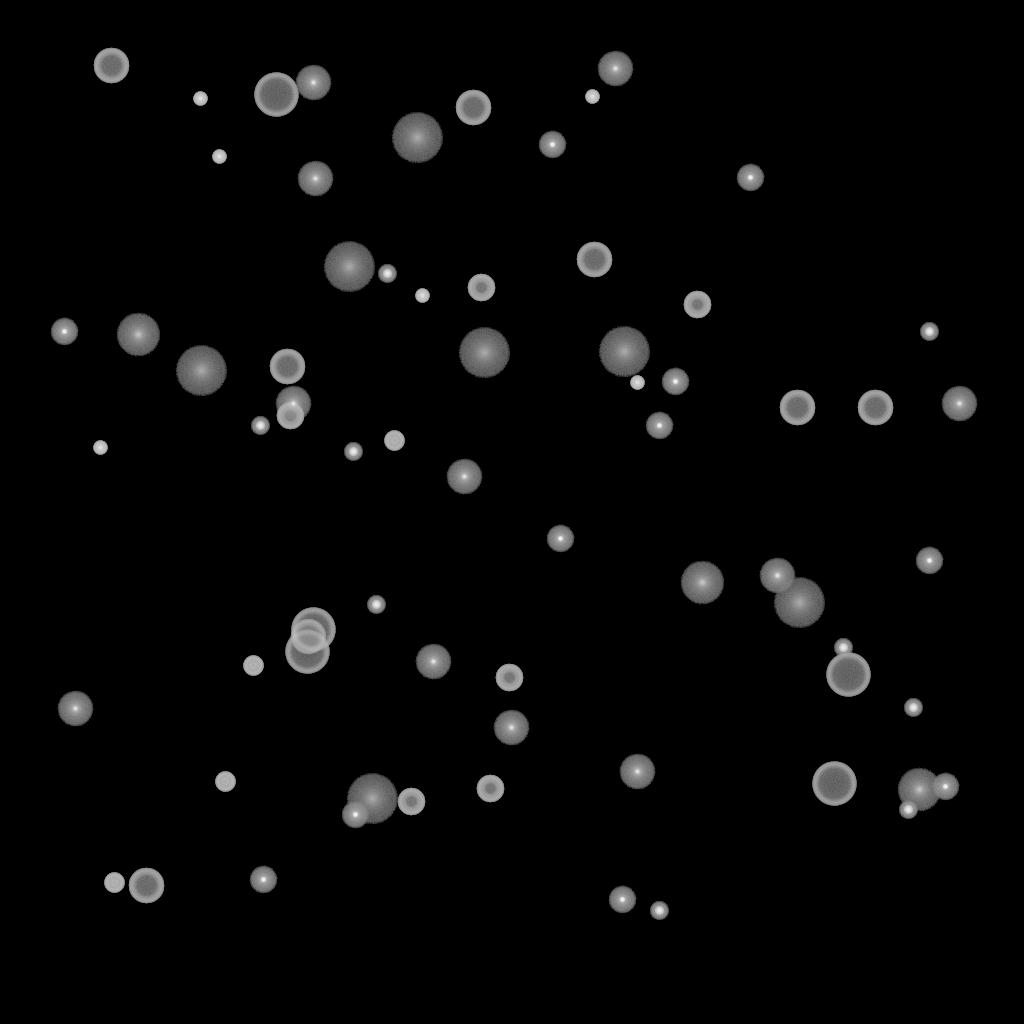depth:-10: (538, 131, 566, 159), (915, 547, 943, 575), (931, 773, 959, 801), (608, 886, 636, 914), (546, 525, 574, 553), (736, 164, 764, 192), (341, 801, 369, 829), (661, 368, 689, 396), (645, 412, 673, 440), (50, 318, 78, 346), (249, 866, 277, 894)
depth:-20: (650, 902, 668, 920), (920, 323, 938, 341), (904, 699, 922, 717), (899, 801, 917, 819), (834, 639, 852, 657), (344, 443, 362, 461), (251, 417, 269, 435), (378, 265, 396, 283), (367, 596, 385, 614)
depth:-30: (415, 289, 429, 303), (93, 441, 107, 455), (630, 376, 644, 390), (193, 92, 207, 106), (585, 90, 599, 104), (212, 150, 226, 164)
depth:-40: (215, 772, 235, 792), (243, 656, 263, 676), (384, 431, 404, 451), (104, 873, 124, 893)
depth:-50: (683, 291, 711, 319), (476, 775, 504, 803), (495, 664, 523, 692), (397, 788, 425, 816), (467, 274, 495, 302), (276, 402, 304, 430)
depth:-60: (269, 349, 305, 385), (455, 90, 491, 126), (576, 242, 612, 278), (93, 48, 129, 84), (290, 619, 326, 655), (128, 868, 164, 904), (779, 390, 815, 426), (857, 390, 893, 426)
depth:-70: (826, 653, 870, 697), (291, 608, 335, 652), (812, 762, 856, 806), (254, 73, 298, 117), (285, 630, 329, 674)
depth:0: (295, 65, 331, 101), (415, 644, 451, 680), (941, 386, 977, 422), (493, 710, 529, 746), (57, 691, 93, 727), (759, 558, 795, 594), (619, 754, 655, 790), (275, 386, 311, 422), (297, 161, 333, 197), (446, 459, 482, 495), (597, 51, 633, 87)
depth:10: (897, 768, 941, 812), (680, 561, 724, 605), (116, 313, 160, 357)
depth:20: (458, 328, 510, 378), (323, 242, 375, 292), (175, 346, 227, 396), (773, 578, 825, 628), (598, 327, 650, 377), (346, 774, 398, 824), (391, 113, 443, 163)
